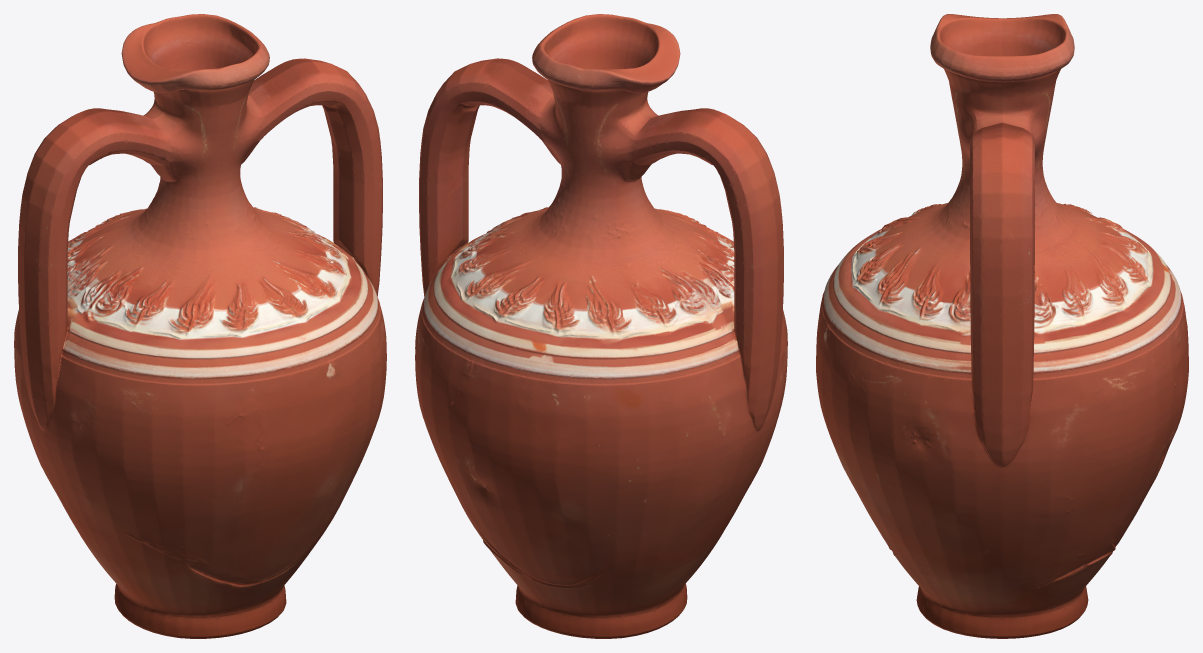
Rendered from zemzem.glb.
The picture shows the model from 3 angles, left to right: view 1: azimuth 30°, elevation 25°; view 2: azimuth 150°, elevation 25°; view 3: azimuth 270°, elevation 25°; orthographic projection.
Visible parts, largest first — view 1: mesh_node; view 2: mesh_node; view 3: mesh_node.
Boxes of the visible parts, x1=… form: mesh_node: x1=14, y1=14, x2=386, y2=638; mesh_node: x1=415, y1=14, x2=787, y2=638; mesh_node: x1=816, y1=14, x2=1188, y2=638.
Bounding box in the file's own units: 1.24 × 1.9 × 1.12.
Materials: 1 (1 with a texture image).
